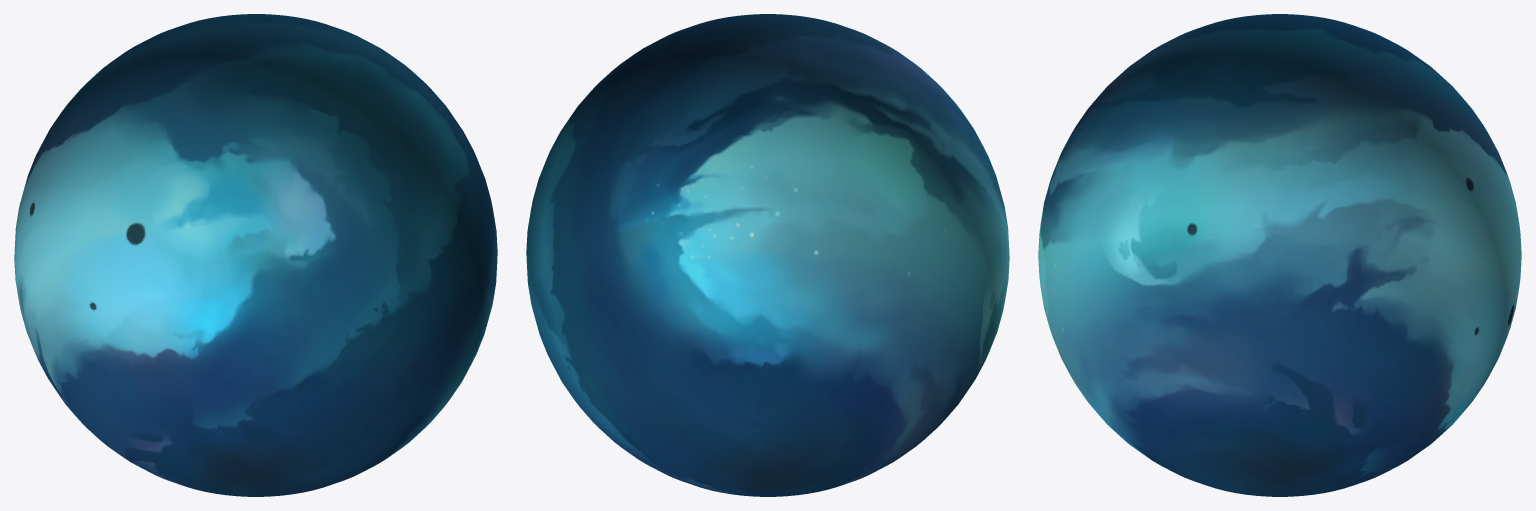
File: sky.glb
3 views of the same model, side by side, from view 1: azimuth 30°, elevation 25°; view 2: azimuth 150°, elevation 25°; view 3: azimuth 270°, elevation 25° (orthographic).
Visible parts, largest first — view 1: Sphere__0; view 2: Sphere__0; view 3: Sphere__0.
Boxes of the visible parts, x1,y1,x2,y2 form: Sphere__0: (14, 14, 497, 496); Sphere__0: (526, 14, 1009, 496); Sphere__0: (1038, 14, 1521, 496).
Size of the model in its own units: 1000 by 1000 by 1000.
1 material, 1 textured.
